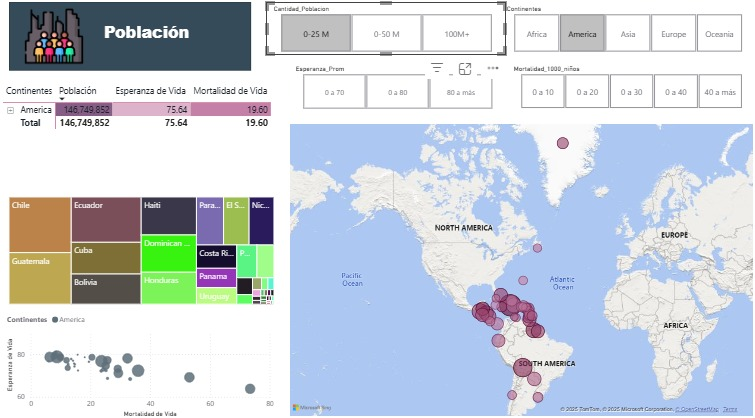

The page's visual inventory and layout, read from the dashboard file:
{"tool":"powerbi","page":{"name":"Página 2","canvas":[1280,720],"ordinal":0},"visuals":[{"type":"shape","box":[25,18.3,406.7,115],"z":0},{"type":"pivotTable","fields":{"Values":["Sum(Population.Población)","Avg(Esperanza de Vida.Esperanza de Vida)","Avg(Mortalidad Infantil.Mortalidad de Vida)"],"Rows":["Countries.Continentes Jerarquía.Continentes","Countries.Continentes Jerarquía.País"]},"box":[10,151.7,475,176.7],"z":1000},{"type":"treemap","fields":{"Group":["Population.País"],"Values":["Sum(Population.Población)"]},"box":[20,341.7,455,190],"z":2000},{"type":"slicer","fields":{"Values":["Population.Cantidad_Poblacion"]},"box":[456.7,18.3,403.3,90],"z":3000},{"type":"slicer","fields":{"Values":["Countries.Continentes"]},"box":[848.3,18.3,431.7,90],"z":4000},{"type":"map","fields":{"Size":["Avg(Mortalidad Infantil.Mortalidad de Vida)"],"Category":["Countries.Continentes Jerarquía.Continentes","Countries.Continentes Jerarquía.País"]},"box":[492.9,218.6,787.1,501.4],"z":5000},{"type":"image","box":[16.7,21.7,168.3,108.3],"z":6000},{"type":"textbox","box":[180,45,251.7,88.3],"z":7000},{"type":"slicer","fields":{"Values":["Esperanza de Vida.Esperanza_Prom"]},"box":[493.3,120,366.7,85],"z":8000},{"type":"slicer","fields":{"Values":["Mortalidad Infantil.Mortalidad_1000_niños"]},"box":[860,120,420,84.3],"z":9000},{"type":"scatterChart","fields":{"Category":["Countries.País"],"Series":["Countries.Continentes"],"Y":["Avg(Esperanza de Vida.Esperanza de Vida)"],"X":["Avg(Mortalidad Infantil.Mortalidad de Vida)"],"Size":["Sum(Population.Población)"]},"box":[16.7,531.7,458.3,188.3],"z":10000}]}

Visuals, with their boxes in screenshot pixels (x1, y1, x2, y2), scaled from the page's 1280x720 canvas onto the 755x418 screenshot:
shape: {"left": 15, "top": 11, "right": 255, "bottom": 77}
pivotTable - Sum(Population.Población) x Avg(Esperanza de Vida.Esperanza de Vida): {"left": 6, "top": 88, "right": 286, "bottom": 191}
treemap - Population.País x Sum(Population.Población): {"left": 12, "top": 198, "right": 280, "bottom": 309}
slicer - Population.Cantidad_Poblacion: {"left": 269, "top": 11, "right": 507, "bottom": 63}
slicer - Countries.Continentes: {"left": 500, "top": 11, "right": 754, "bottom": 63}
map - Avg(Mortalidad Infantil.Mortalidad de Vida) x Countries.Continentes Jerarquía.Continentes: {"left": 291, "top": 127, "right": 754, "bottom": 417}
image: {"left": 10, "top": 13, "right": 109, "bottom": 75}
textbox: {"left": 106, "top": 26, "right": 255, "bottom": 77}
slicer - Esperanza de Vida.Esperanza_Prom: {"left": 291, "top": 70, "right": 507, "bottom": 119}
slicer - Mortalidad Infantil.Mortalidad_1000_niños: {"left": 507, "top": 70, "right": 754, "bottom": 119}
scatterChart - Countries.País x Countries.Continentes: {"left": 10, "top": 309, "right": 280, "bottom": 417}
